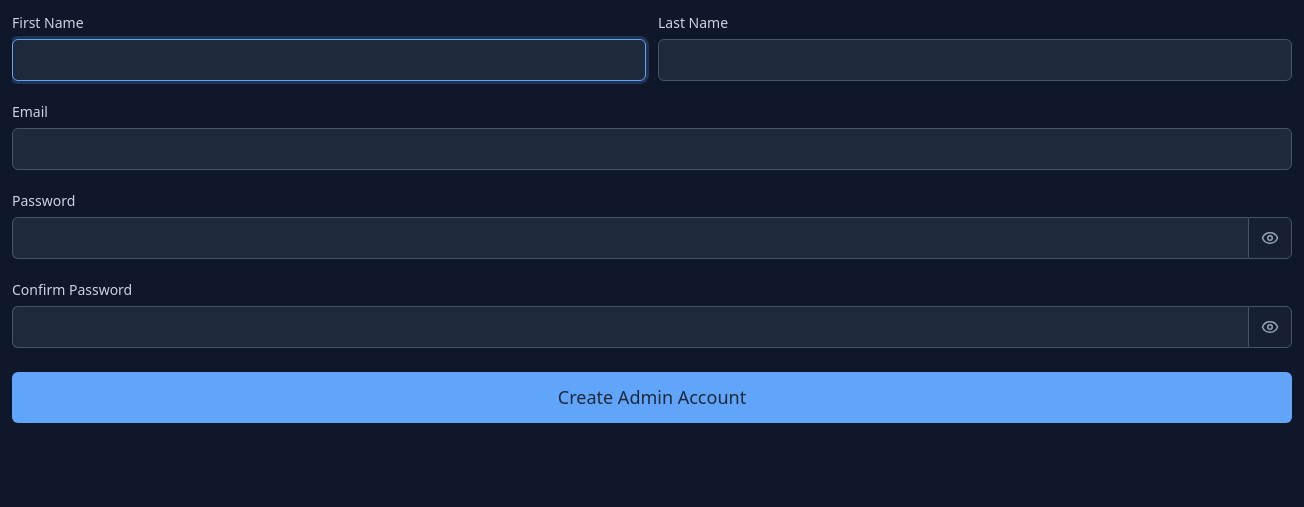
Test: SetupForm › API error handling › shows error message when completeSetup throws
Type "Admin" into the field labelled "First Name" at [329, 60], box [12, 39, 646, 81]
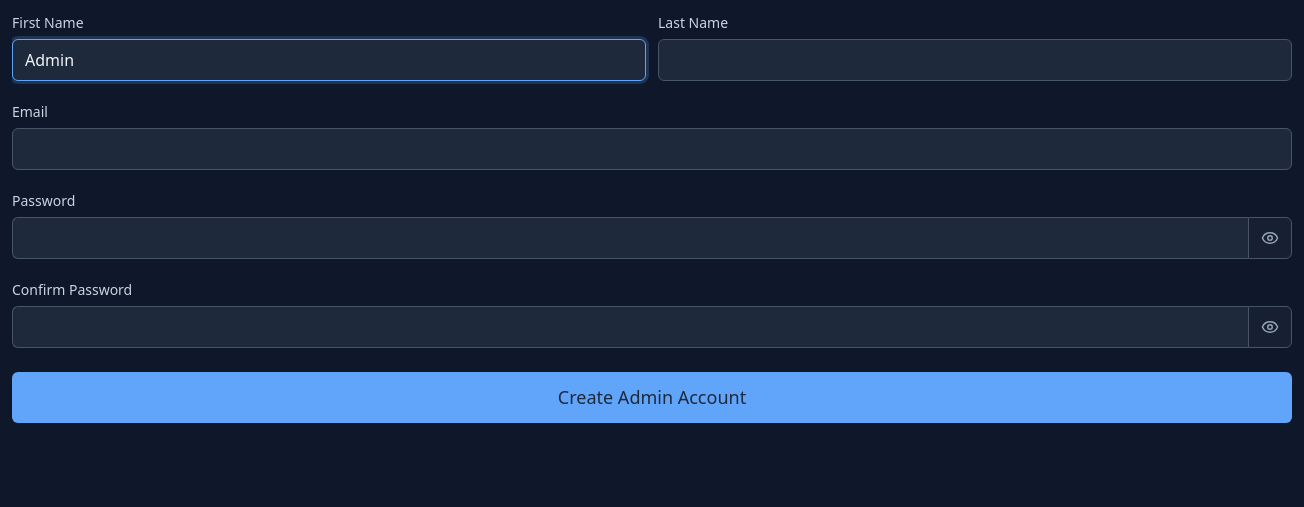
Type "admin@test.com" into the field labelled "Email" at [652, 149], box [12, 128, 1292, 170]
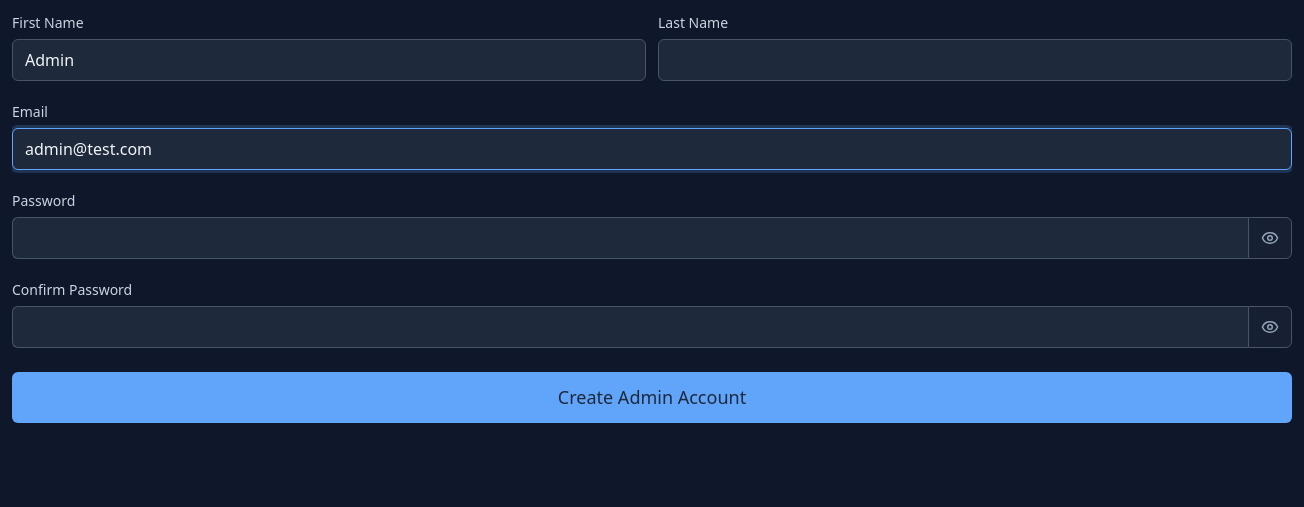
Type "Password1!" into the password field labelled "Password" at [630, 238], box [12, 217, 1248, 259]
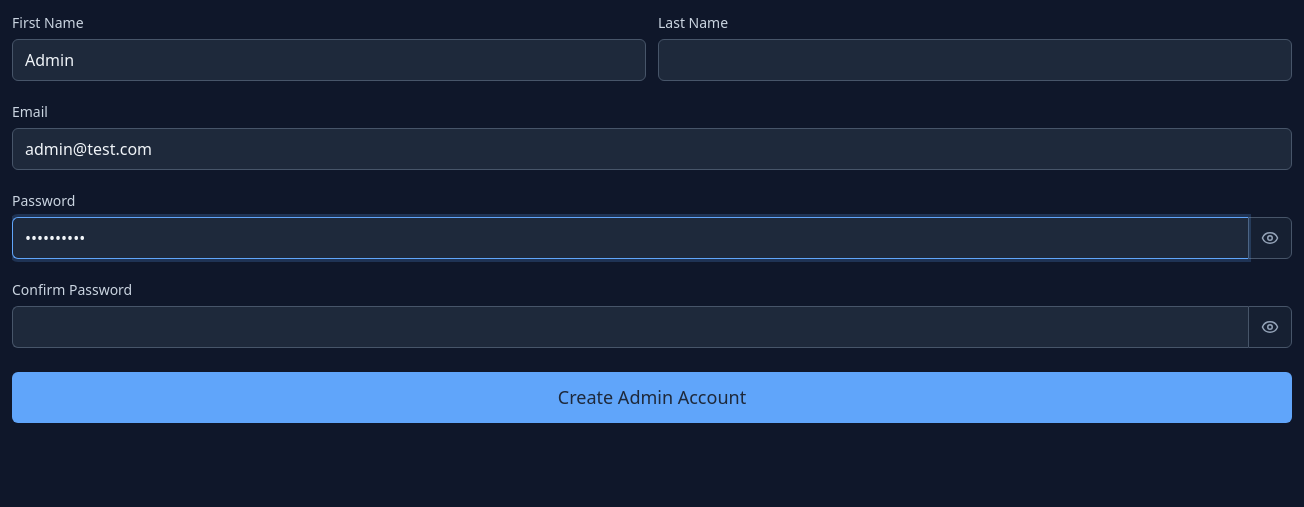
Type "Password1!" into the password field labelled "Confirm Password" at [630, 327], box [12, 306, 1248, 348]
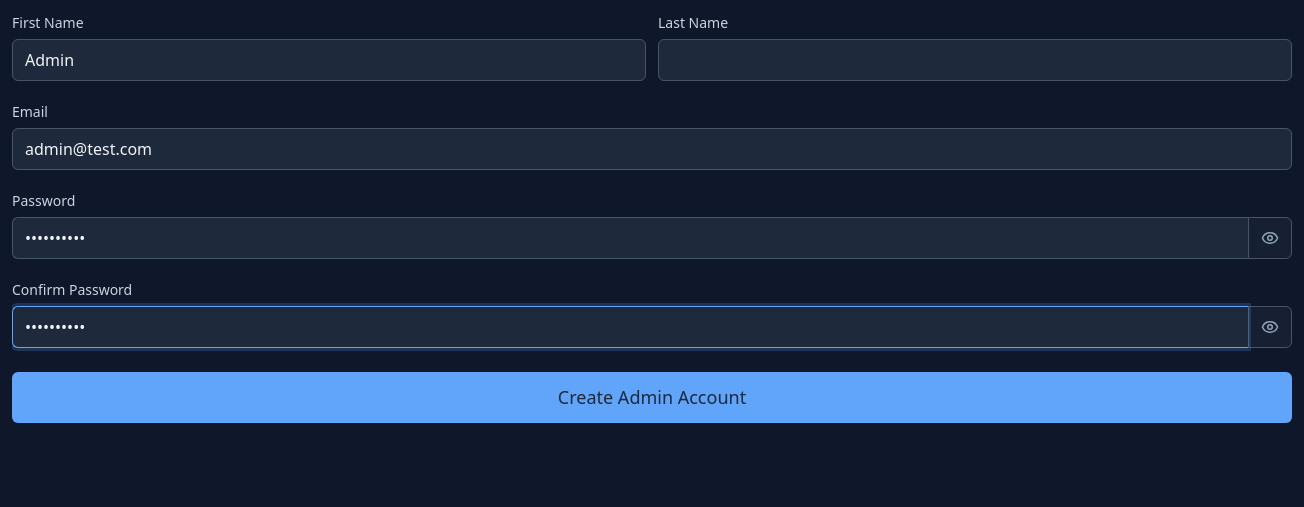
Click the button "Create Admin Account" at [652, 398], box [12, 372, 1292, 423]
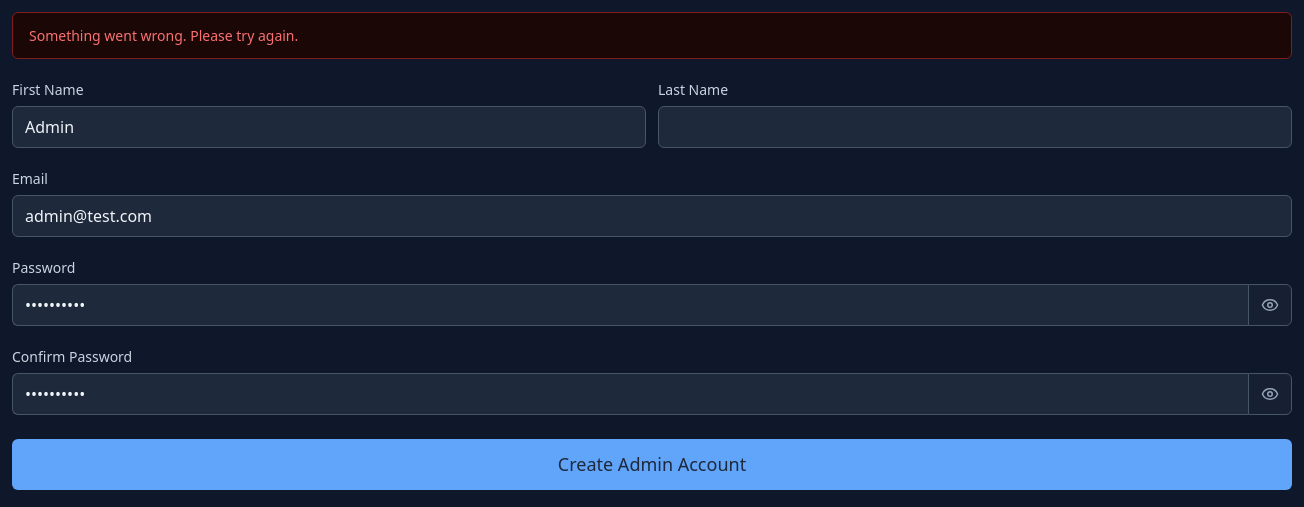
Expected: the message "Something went wrong. Please try again." is shown, [12, 12, 1292, 59]
